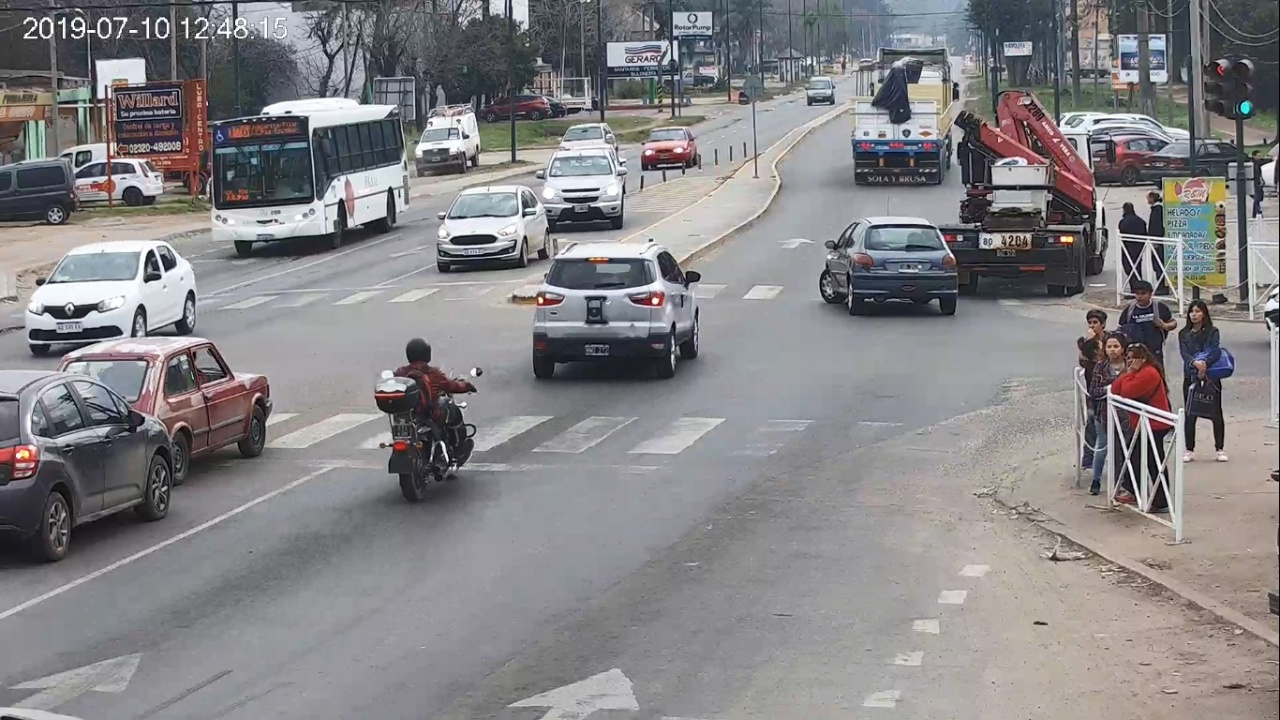car: (1, 370, 172, 558), (533, 240, 702, 379), (820, 216, 959, 316)
motorcycle: (375, 365, 483, 500)
traffic light: (1231, 56, 1256, 118)
